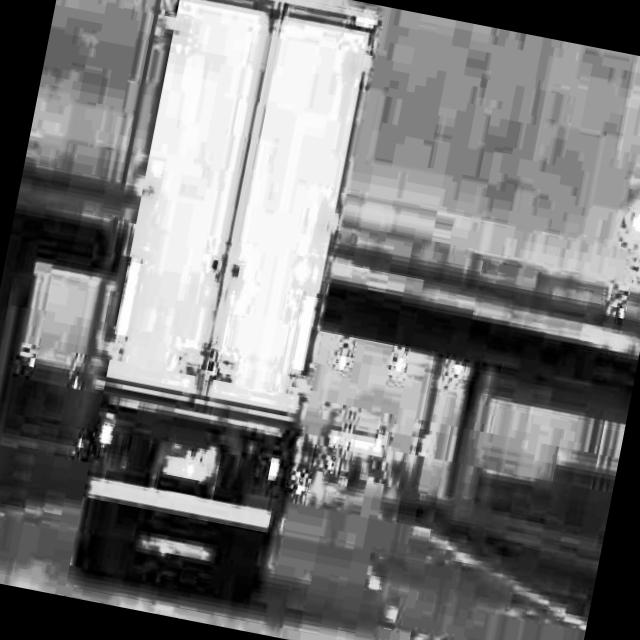Truck: (48, 0, 388, 609)
